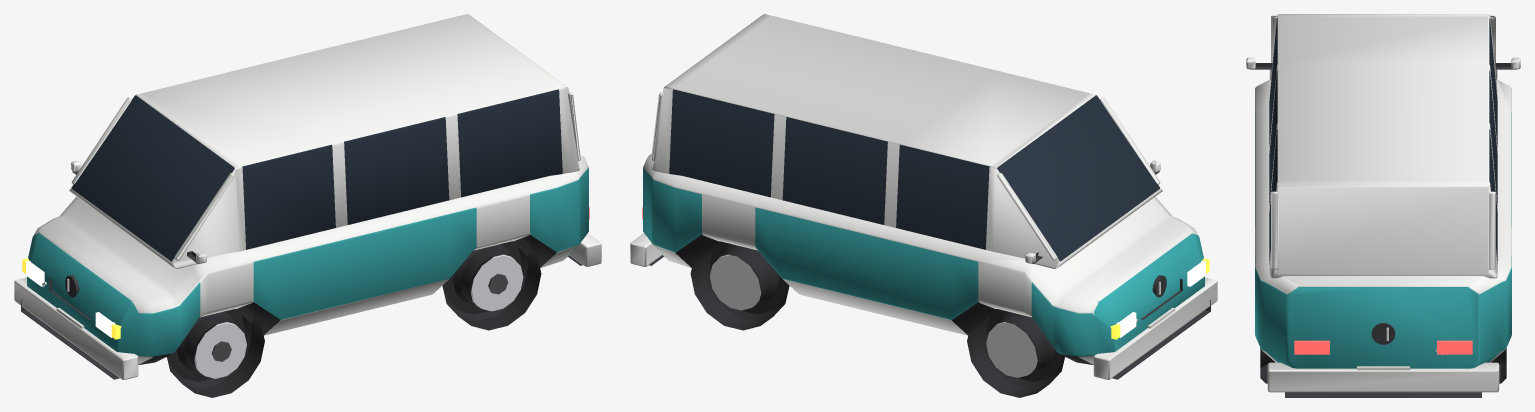
File: mv_vintage.glb
3 views of the same model, side by side, from view 1: azimuth 30°, elevation 25°; view 2: azimuth 150°, elevation 25°; view 3: azimuth 270°, elevation 25° (orthographic). The views are drawn at different scales.
Bounding box in the file's own units: 1.9 × 0.828 × 0.8871.
